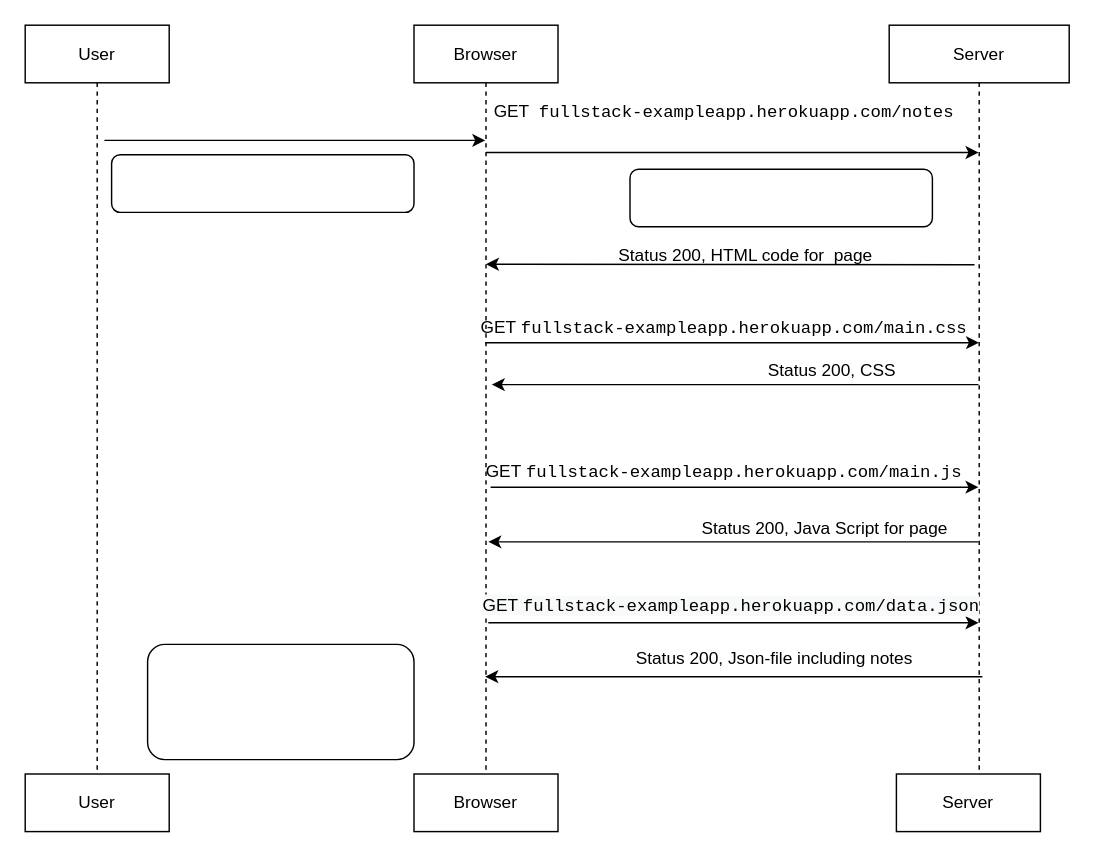
Some shapes in this 1094 by 857 pixel diagram are drawn without their labels. The centre of each missing label's shape, as x and y in pixels:
Browser shows the webpage (HTML,CSS,JS and json files all compiled): point (280, 701)
Generate HTML code: point (780, 197)
User clicks link on main page fullstack-exampleapp.herokuapp.com/notes: point (262, 182)
